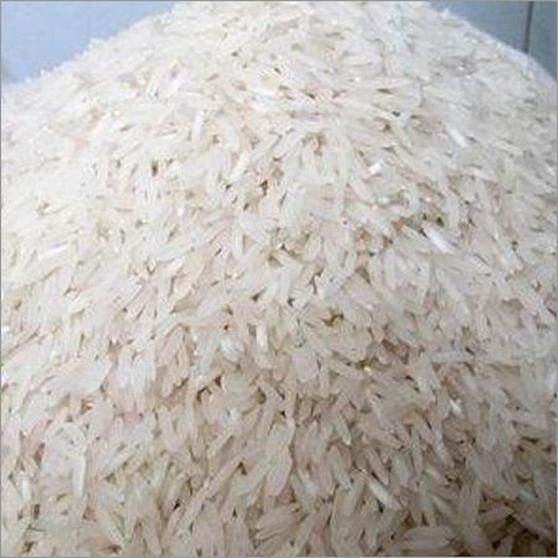rice: (98, 103, 476, 404)
